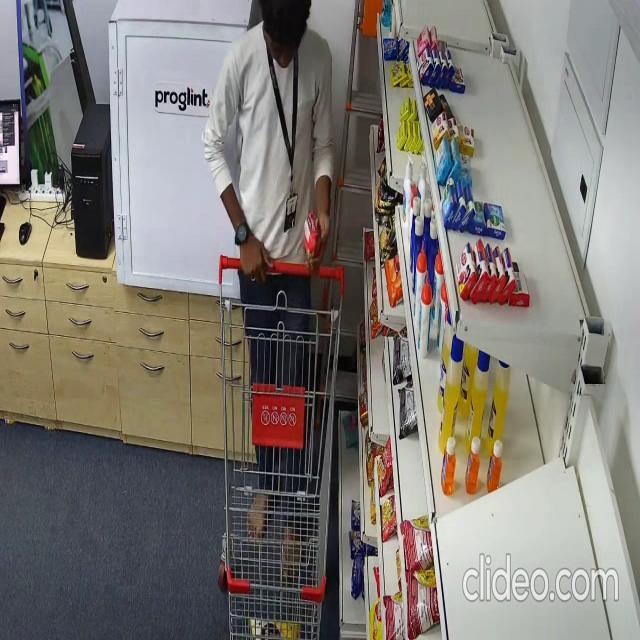normal: (204, 0, 346, 570)
